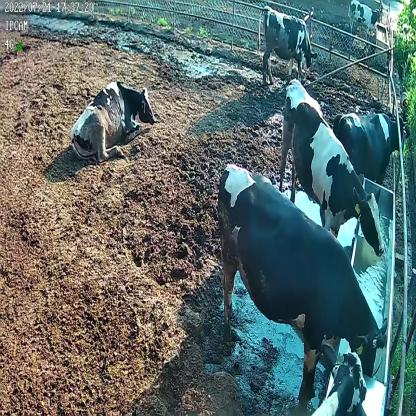cow: (217, 162, 391, 400), (277, 78, 385, 260), (68, 77, 155, 162), (333, 108, 412, 186), (258, 0, 317, 86)
